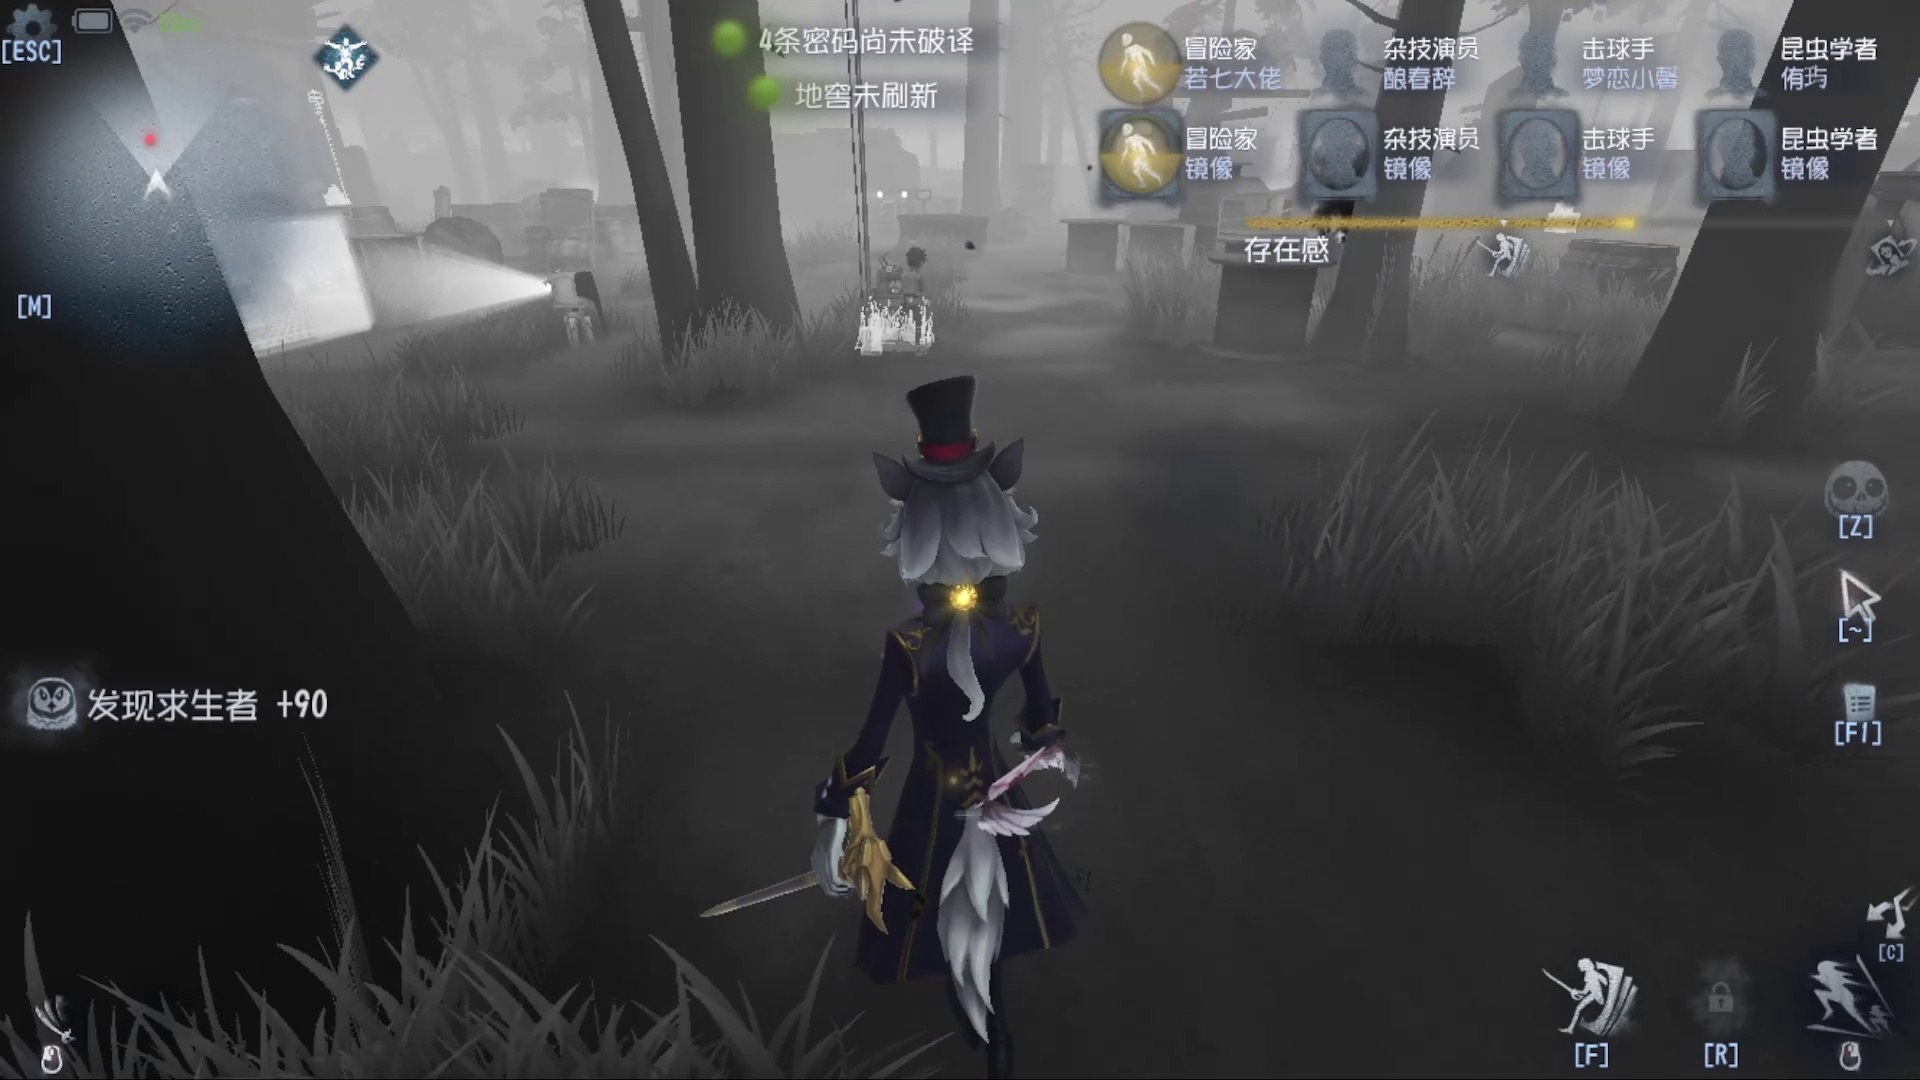求生者: (891, 241, 934, 353)
